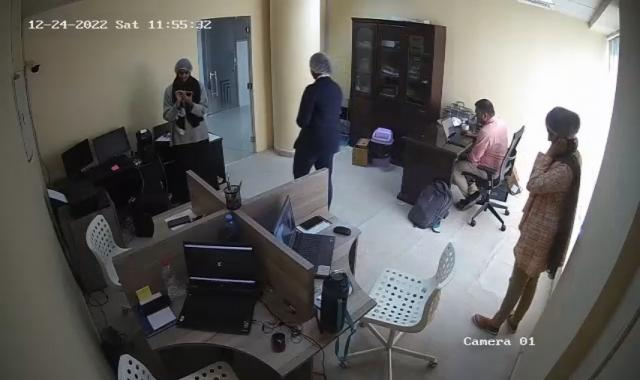hairnet: (544, 105, 582, 143), (309, 50, 335, 79), (173, 57, 193, 83)
no_hairnet: (472, 98, 497, 126)
